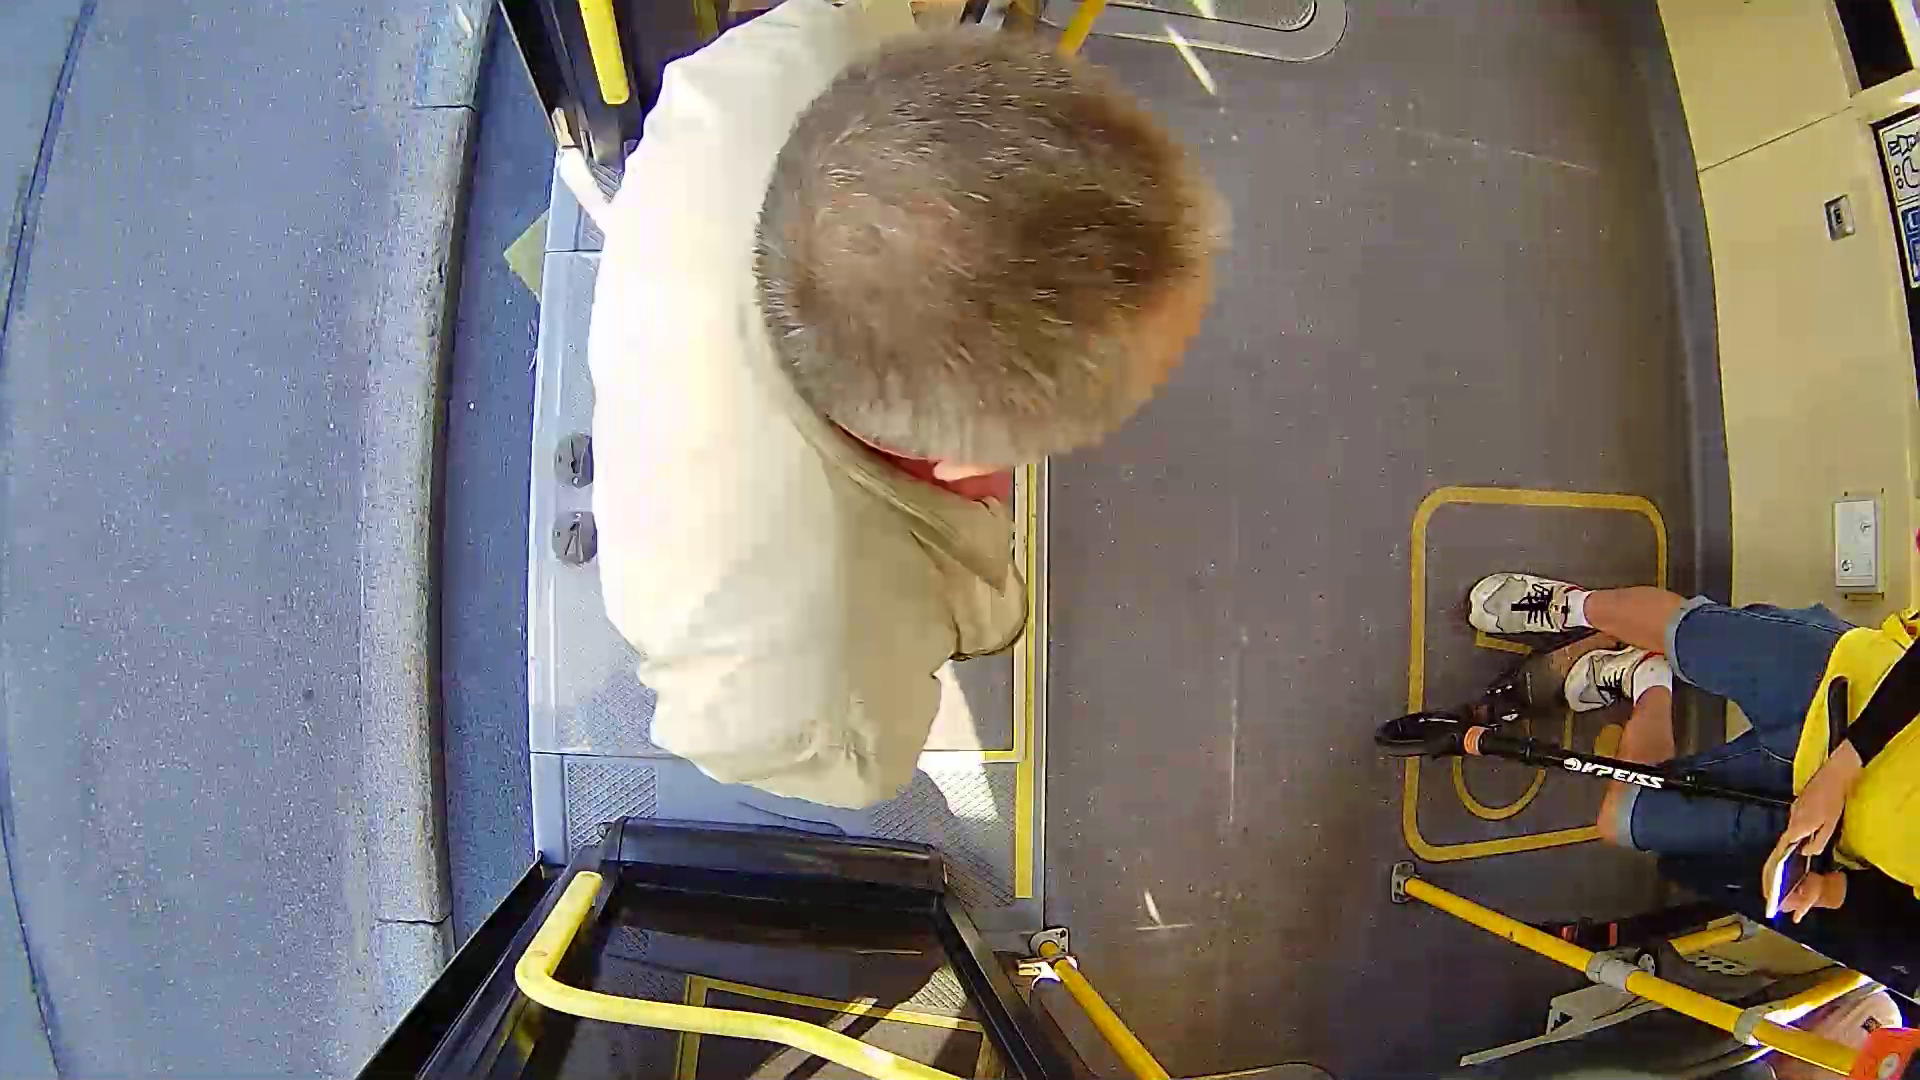person: (520, 27, 1215, 829)
